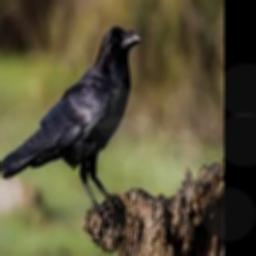Crow: (0, 25, 143, 223)
